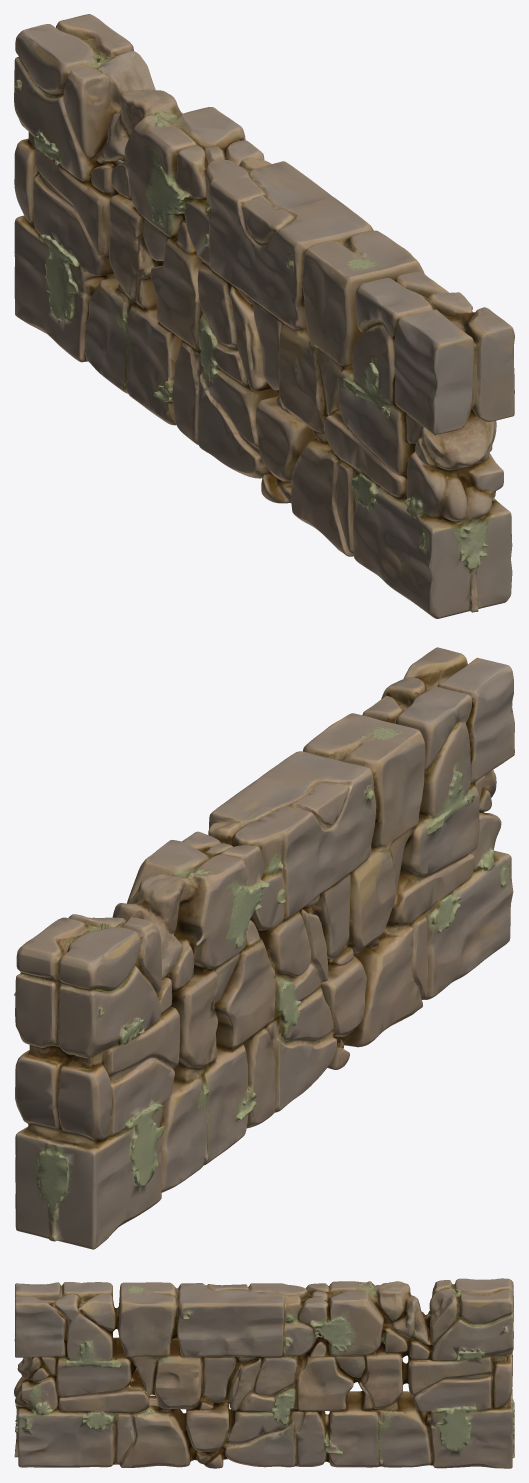
Rendered from crumbling-sandstone-wall-segment-optimized.glb.
The picture shows the model from 3 angles, top to bottom: view 1: azimuth 30°, elevation 25°; view 2: azimuth 150°, elevation 25°; view 3: azimuth 270°, elevation 25°; orthographic projection. The views are drawn at different scales.
Parts seen in each view (by area): view 1: tripo_node_0961927d-7d80-4527-8a2a-2ef29c673abb; view 2: tripo_node_0961927d-7d80-4527-8a2a-2ef29c673abb; view 3: tripo_node_0961927d-7d80-4527-8a2a-2ef29c673abb.
Part boxes in pixels (x1,y1,x2,y2): tripo_node_0961927d-7d80-4527-8a2a-2ef29c673abb: [14, 14, 514, 618]; tripo_node_0961927d-7d80-4527-8a2a-2ef29c673abb: [14, 647, 514, 1249]; tripo_node_0961927d-7d80-4527-8a2a-2ef29c673abb: [14, 1278, 514, 1468].
Size of the model in its own units: 0.1236 by 0.3733 by 0.9997.
Materials: 1 (1 with a texture image).
